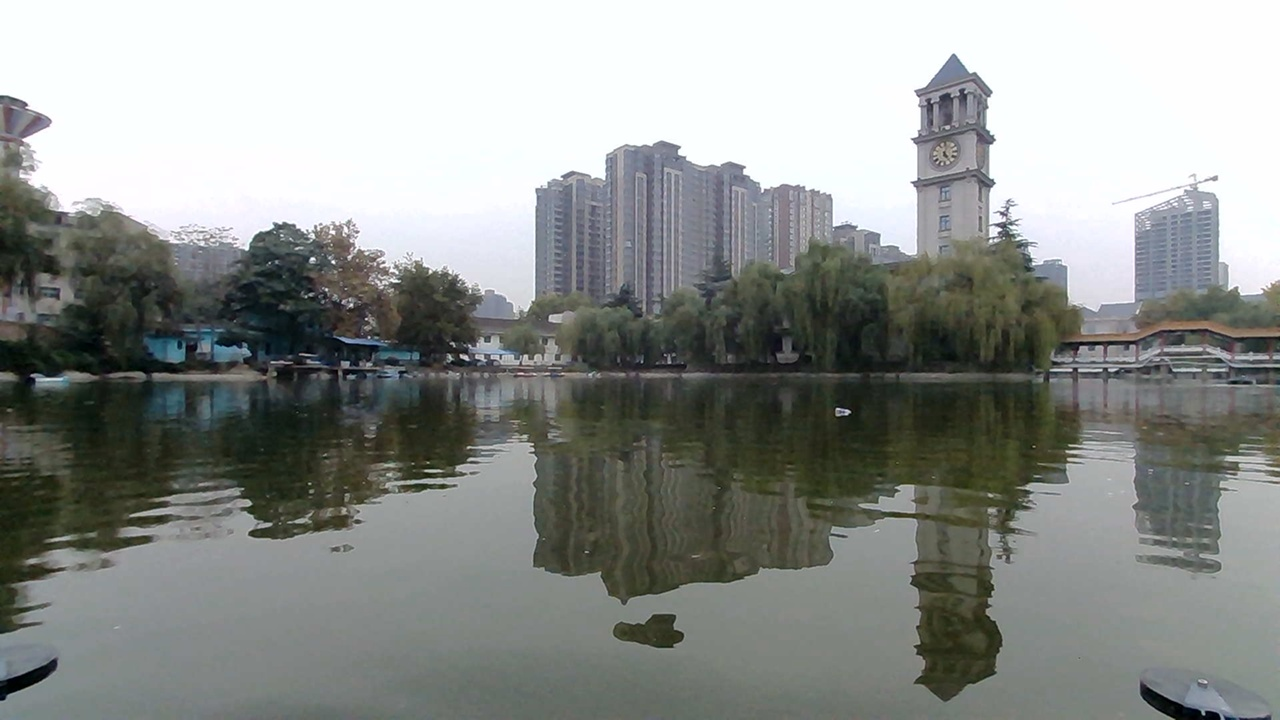bottle: (830, 394, 869, 424)
